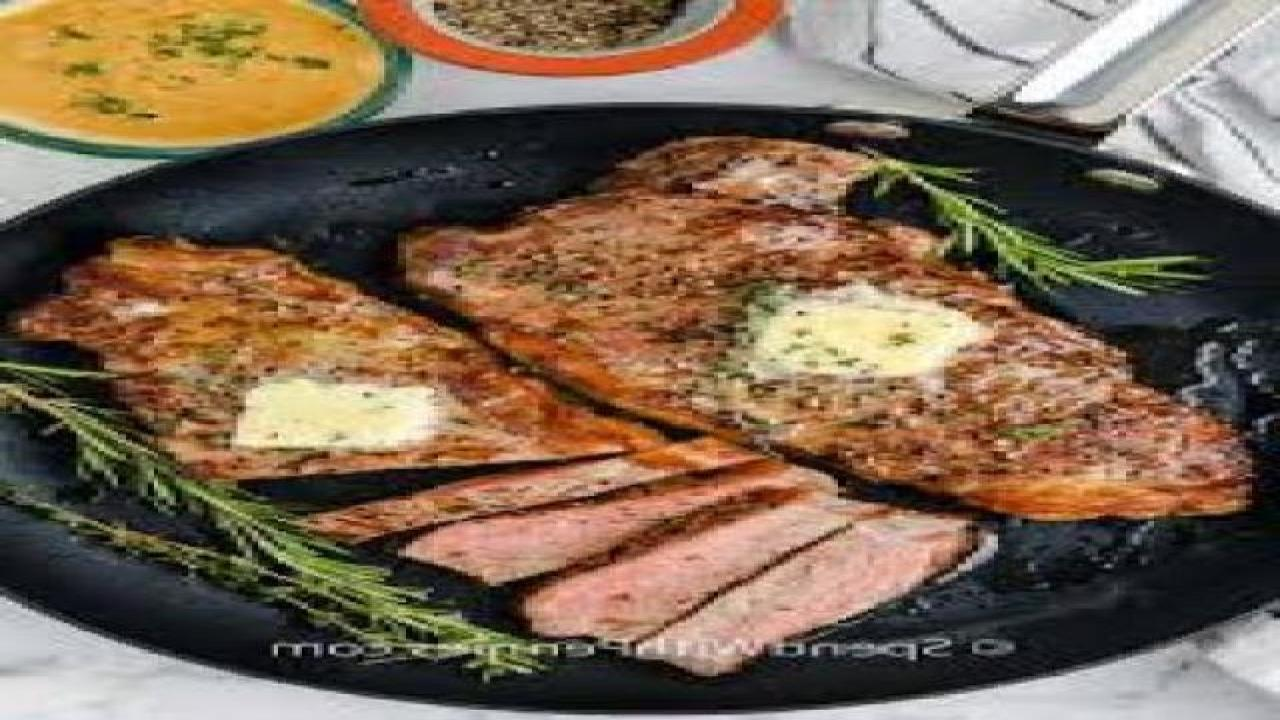Carne: (445, 152, 1277, 530), (20, 232, 578, 474), (484, 469, 951, 690)
